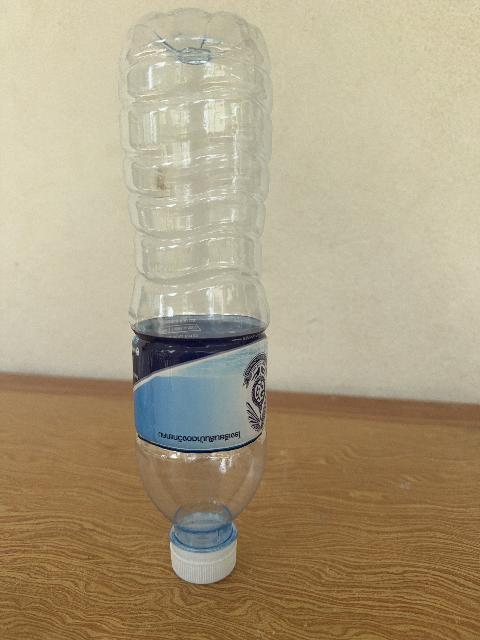bottle: (120, 10, 271, 583)
